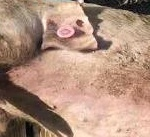text: (51, 17, 84, 47)
